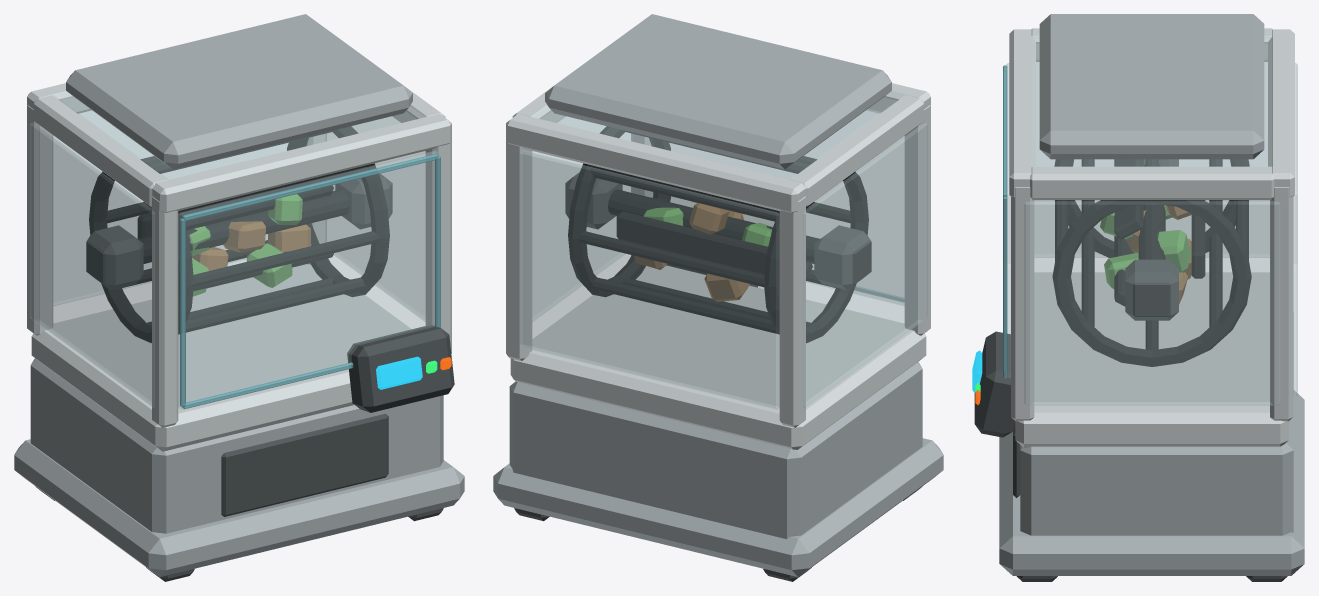
Rendered from AutomaticCook.glb.
The picture shows the model from 3 angles, left to right: view 1: azimuth 30°, elevation 25°; view 2: azimuth 150°, elevation 25°; view 3: azimuth 270°, elevation 25°; orthographic projection. The views are drawn at different scales.
Parts seen in each view (by area): view 1: Body_Static, TransparentShell, Drum_BlackMesh, Vegetables_Visual; view 2: Body_Static, TransparentShell, Drum_BlackMesh, Vegetables_Visual; view 3: Body_Static, TransparentShell, Drum_BlackMesh, Vegetables_Visual.
Boxes of the visible parts, left/top/right/bottom form: Body_Static: left=14, top=14, right=464, bottom=581; TransparentShell: left=30, top=92, right=440, bottom=409; Drum_BlackMesh: left=89, top=126, right=389, bottom=342; Vegetables_Visual: left=189, top=194, right=311, bottom=296; Body_Static: left=493, top=14, right=943, bottom=581; TransparentShell: left=519, top=92, right=927, bottom=409; Drum_BlackMesh: left=568, top=126, right=868, bottom=342; Vegetables_Visual: left=634, top=201, right=772, bottom=301; Body_Static: left=972, top=14, right=1304, bottom=581; TransparentShell: left=1003, top=37, right=1297, bottom=405; Drum_BlackMesh: left=1052, top=159, right=1251, bottom=366; Vegetables_Visual: left=1100, top=205, right=1192, bottom=303.
Bounding box in the file's own units: 1.55 × 1.99 × 1.36.
